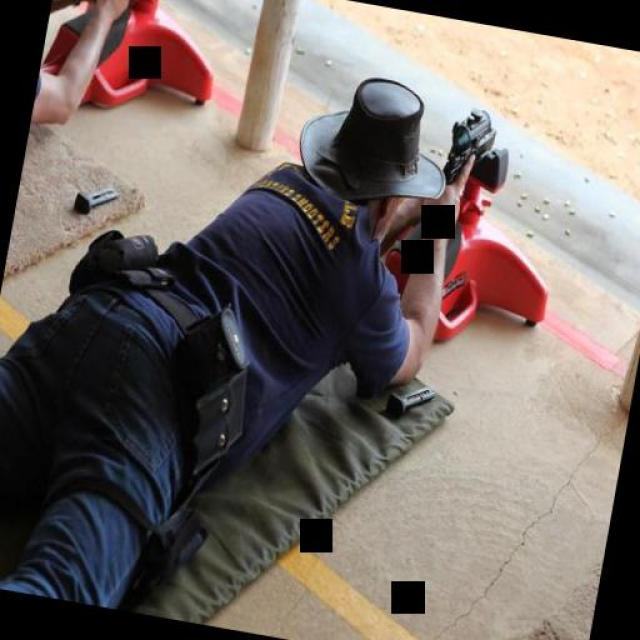gun: (435, 96, 511, 202)
